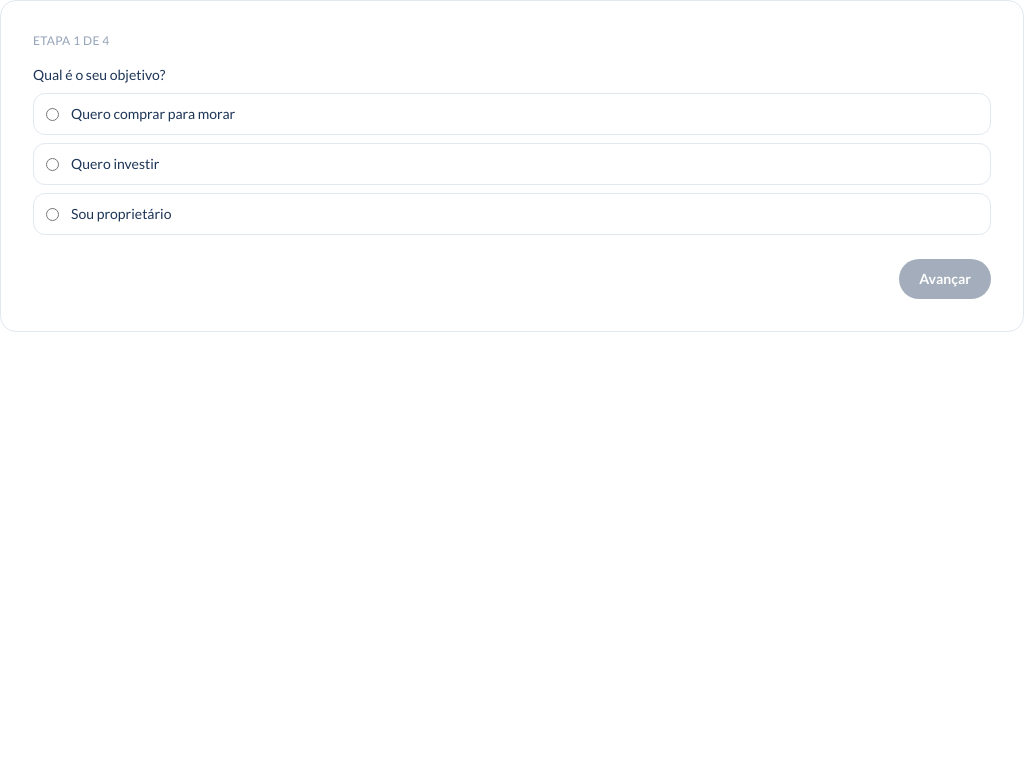
Test case: LeadForm › asks the investment strategy only for the invest intent
Click the radio button labelled "Quero comprar para morar". click: (52, 114)
box: left=46, top=108, right=59, bottom=120
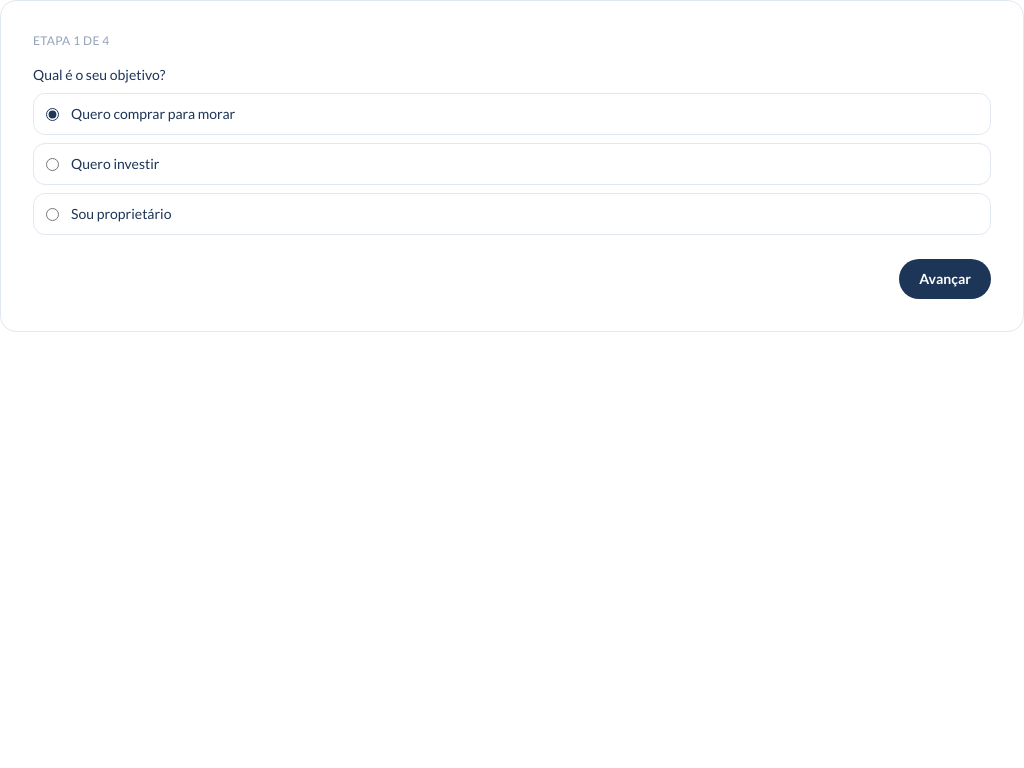
Click the button "Avançar". click: (945, 279)
box: left=899, top=259, right=991, bottom=299
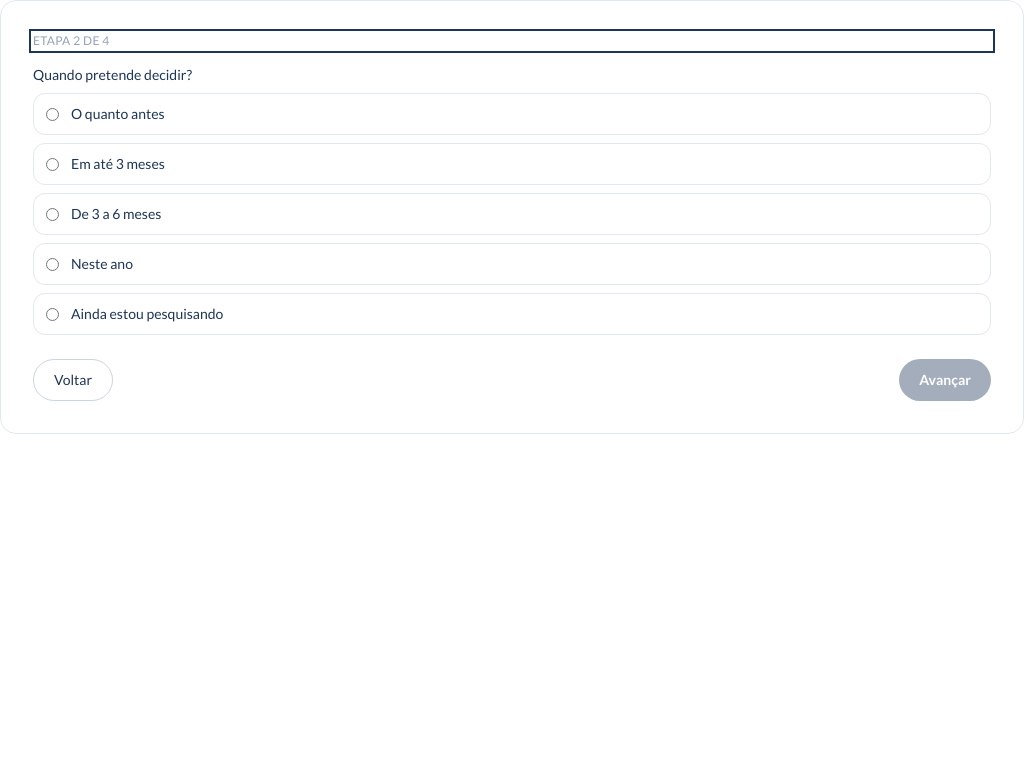
Expected: the element "qual estratégia" is not shown
Click the button "Voltar". click: (73, 380)
box: left=33, top=359, right=113, bottom=401
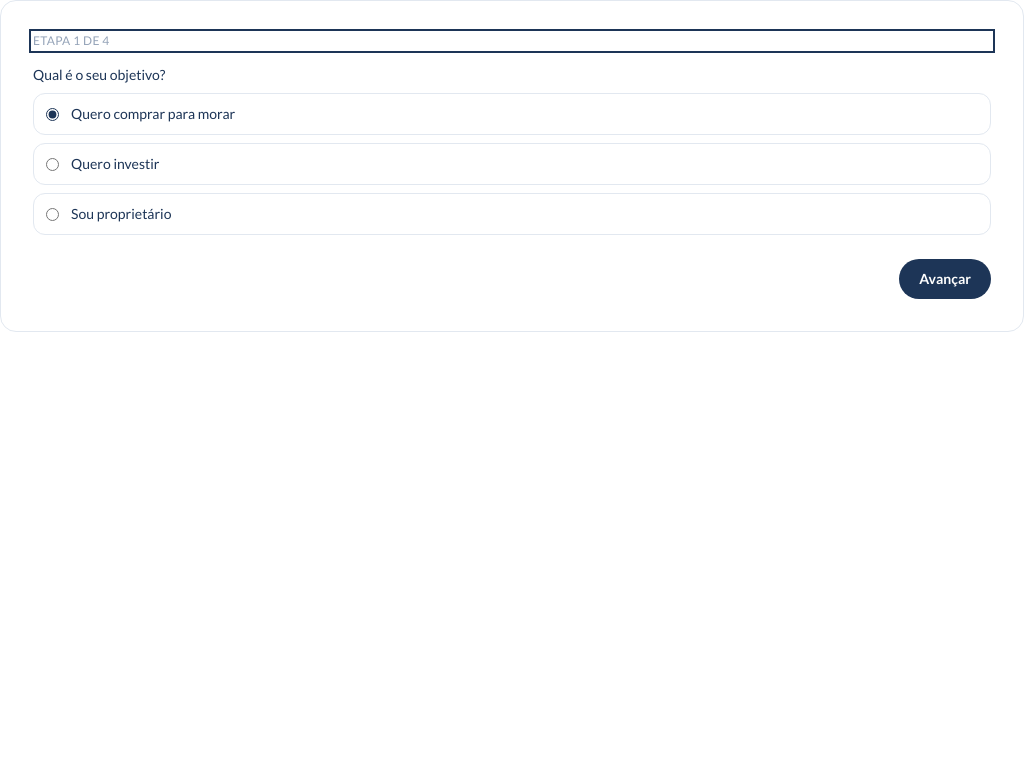
Click the radio button labelled "Quero investir". click: (52, 164)
box: left=46, top=158, right=59, bottom=170
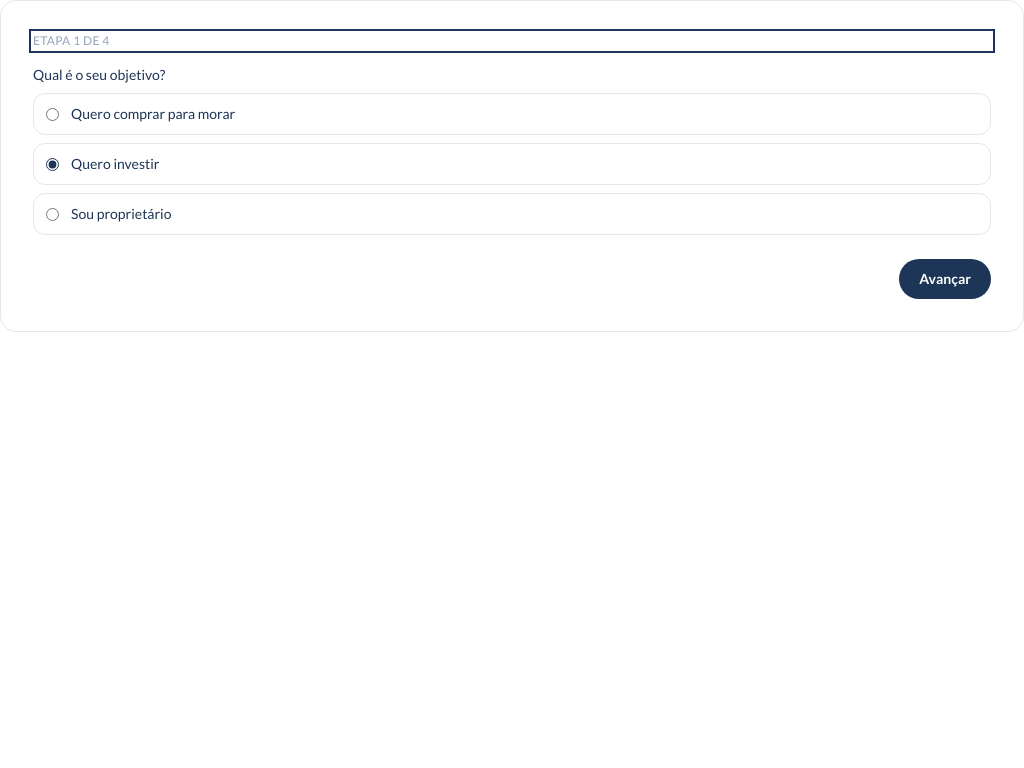
Click the button "Avançar". click: (945, 279)
box: left=899, top=259, right=991, bottom=299
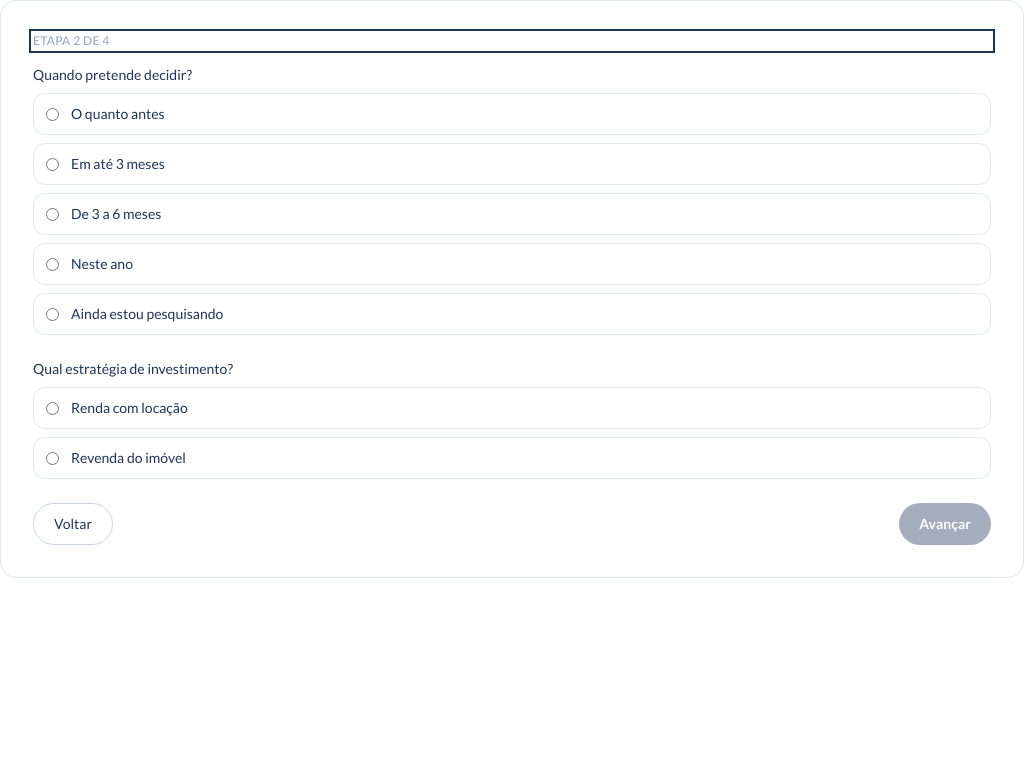
Result: the element "Qual estratégia" is shown at left=33, top=359, right=991, bottom=479
